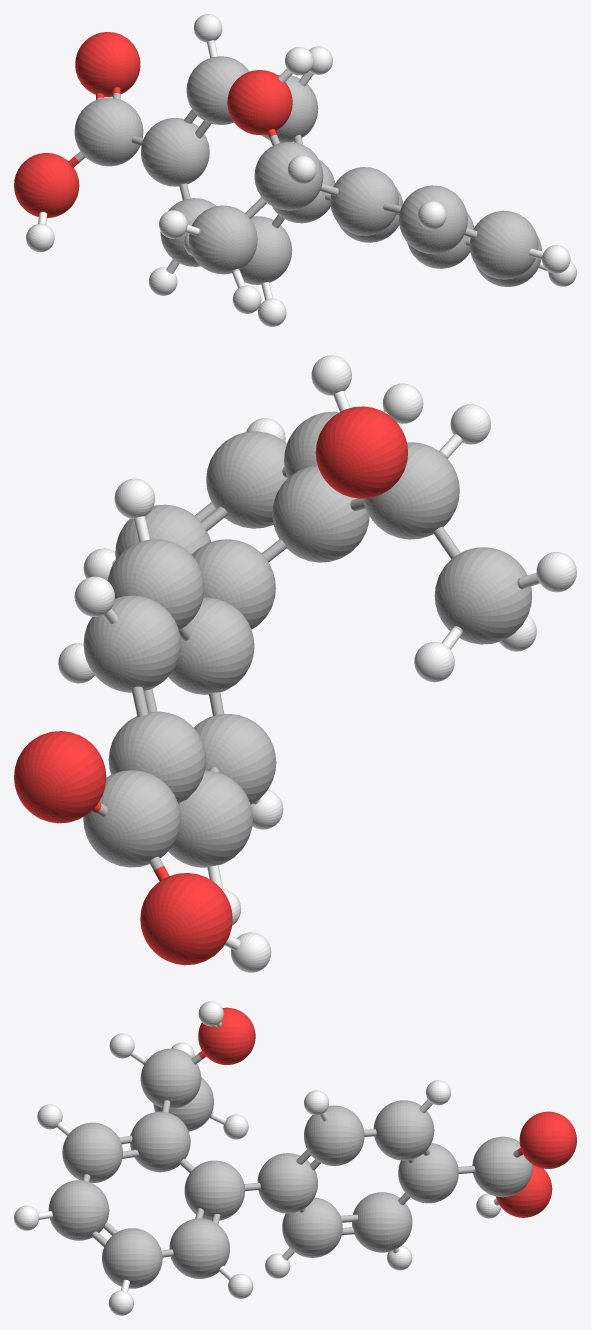
File: levo2.glb
3 views of the same model, one above another, from view 1: azimuth 30°, elevation 25°; view 2: azimuth 150°, elevation 25°; view 3: azimuth 270°, elevation 25° (orthographic). The views are drawn at different scales.
Visible parts, largest first — view 1: Carbon_ball.015, Carbon_ball.012, Carbon_ball.001, Carbon_ball.005, Carbon_ball.003, Oxygen_ball.003, Oxygen_ball.002, Oxygen_ball.001, Carbon_ball.004, Carbon_ball.002, Carbon_ball.011, Carbon_ball.014 (+18 smaller); view 2: Carbon_ball.001, Carbon_ball.011, Carbon_ball.015, Oxygen_ball.001, Oxygen_ball.002, Oxygen_ball.003, Carbon_ball.003, Carbon_ball.005, Carbon_ball.002, Carbon_ball.012, Carbon_ball.009, Carbon_ball.013 (+16 smaller); view 3: Carbon_ball.007, Carbon_ball.005, Carbon_ball.011, Carbon_ball.004, Carbon_ball.006, Carbon_ball.003, Carbon_ball.002, Carbon_ball.013, Carbon_ball.009, Carbon_ball.008, Carbon_ball.010, Carbon_ball.015 (+18 smaller).
Part boxes in pixels (left/top/right/bottom): Carbon_ball.015: left=74, top=97, right=143, bottom=166; Carbon_ball.012: left=141, top=118, right=209, bottom=186; Carbon_ball.001: left=188, top=205, right=257, bottom=274; Carbon_ball.005: left=469, top=210, right=538, bottom=279; Carbon_ball.003: left=330, top=167, right=398, bottom=235; Oxygen_ball.003: left=227, top=70, right=292, bottom=135; Oxygen_ball.002: left=14, top=153, right=79, bottom=218; Oxygen_ball.001: left=75, top=32, right=140, bottom=97; Carbon_ball.004: left=399, top=185, right=467, bottom=254; Carbon_ball.002: left=254, top=142, right=323, bottom=210; Carbon_ball.011: left=186, top=56, right=249, bottom=124; Carbon_ball.014: left=240, top=216, right=292, bottom=284; Carbon_ball.001: left=434, top=547, right=531, bottom=644; Carbon_ball.011: left=83, top=595, right=180, bottom=692; Carbon_ball.015: left=83, top=770, right=180, bottom=867; Oxygen_ball.001: left=14, top=731, right=106, bottom=823; Oxygen_ball.002: left=140, top=873, right=232, bottom=965; Oxygen_ball.003: left=315, top=406, right=407, bottom=498; Carbon_ball.003: left=272, top=465, right=369, bottom=562; Carbon_ball.005: left=206, top=431, right=287, bottom=528; Carbon_ball.002: left=363, top=442, right=459, bottom=539; Carbon_ball.012: left=108, top=711, right=205, bottom=803; Carbon_ball.009: left=168, top=597, right=254, bottom=694; Carbon_ball.013: left=168, top=770, right=252, bottom=867; Carbon_ball.007: left=169, top=1218, right=229, bottom=1278; Carbon_ball.005: left=48, top=1180, right=109, bottom=1240; Carbon_ball.011: left=373, top=1100, right=434, bottom=1160; Carbon_ball.004: left=62, top=1122, right=122, bottom=1182; Carbon_ball.006: left=102, top=1228, right=162, bottom=1288; Carbon_ball.003: left=130, top=1111, right=190, bottom=1172; Carbon_ball.002: left=140, top=1048, right=201, bottom=1108; Carbon_ball.013: left=352, top=1192, right=412, bottom=1252; Carbon_ball.009: left=257, top=1153, right=317, bottom=1213; Carbon_ball.008: left=184, top=1160, right=244, bottom=1220; Carbon_ball.010: left=304, top=1105, right=364, bottom=1165; Carbon_ball.015: left=472, top=1136, right=532, bottom=1197.
Size of the model in its own units: 7.31 by 5.85 by 10.68.
